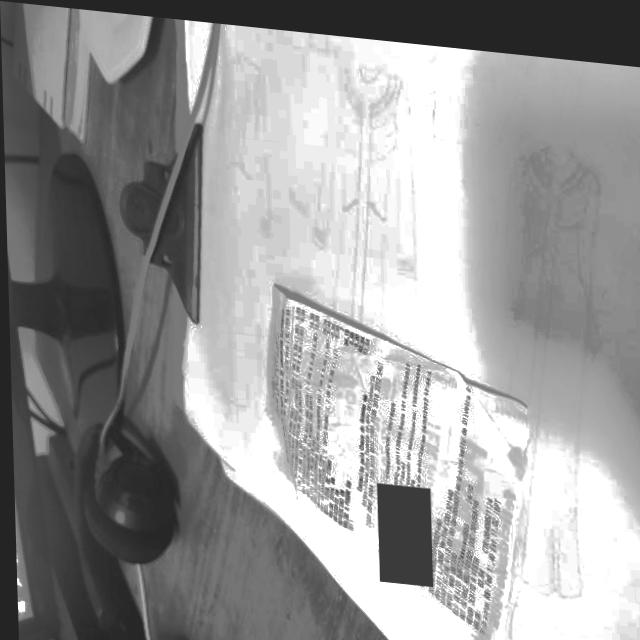qr_code: (374, 475, 430, 577)
